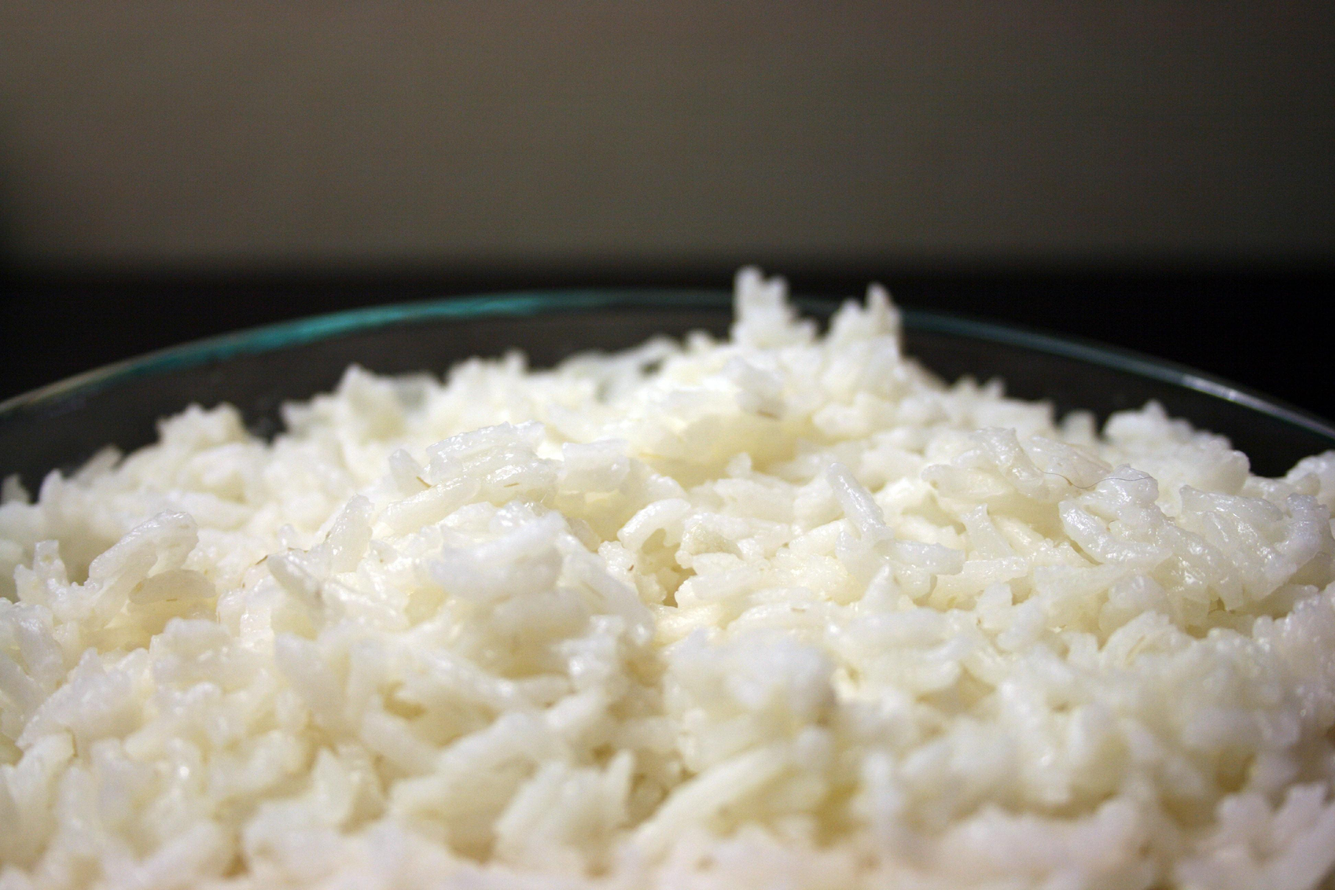WhiteRice: (0, 262, 1335, 890)
